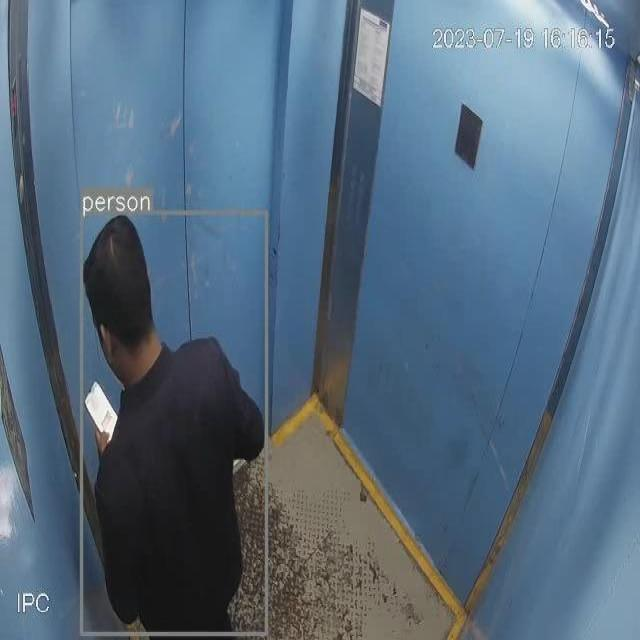person: (84, 214, 266, 634)
